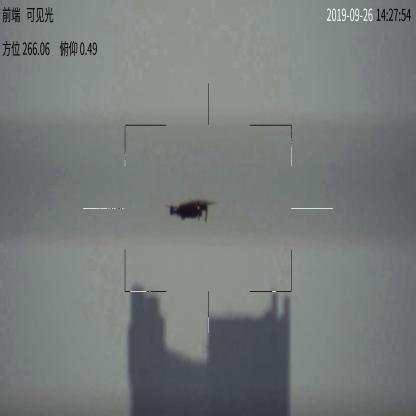uav: (162, 198, 218, 224)
